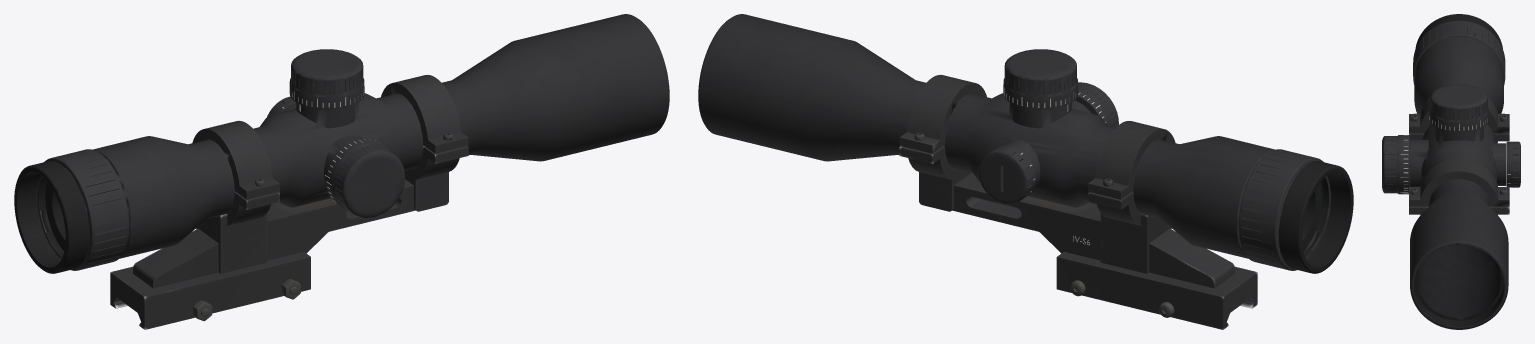
The model's file is IVS6_Scope_LOD1.glb.
The picture shows the model from 3 angles, left to right: view 1: azimuth 30°, elevation 25°; view 2: azimuth 150°, elevation 25°; view 3: azimuth 270°, elevation 25°; orthographic projection. The views are drawn at different scales.
Parts seen in each view (by area): view 1: SM_IVS6_Scope_LOD1; view 2: SM_IVS6_Scope_LOD1; view 3: SM_IVS6_Scope_LOD1, IVS6_Glass_LOD1.
Part boxes in pixels (bbox=[...]): SM_IVS6_Scope_LOD1: bbox=[14, 14, 669, 329]; SM_IVS6_Scope_LOD1: bbox=[698, 14, 1353, 329]; SM_IVS6_Scope_LOD1: bbox=[1382, 14, 1520, 329]; IVS6_Glass_LOD1: bbox=[1421, 245, 1497, 316].
Bounding box in the file's own units: 0.27 × 0.0895 × 0.068.
3 materials, 1 textured.
